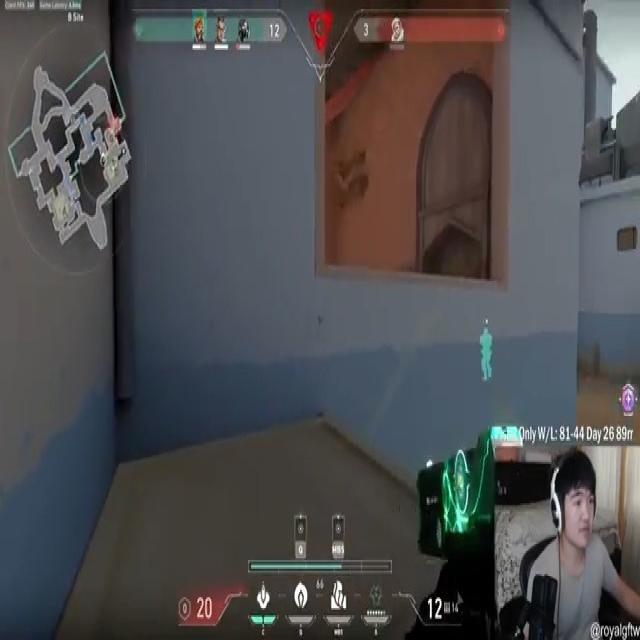ally behind wall: (480, 322, 496, 383)
